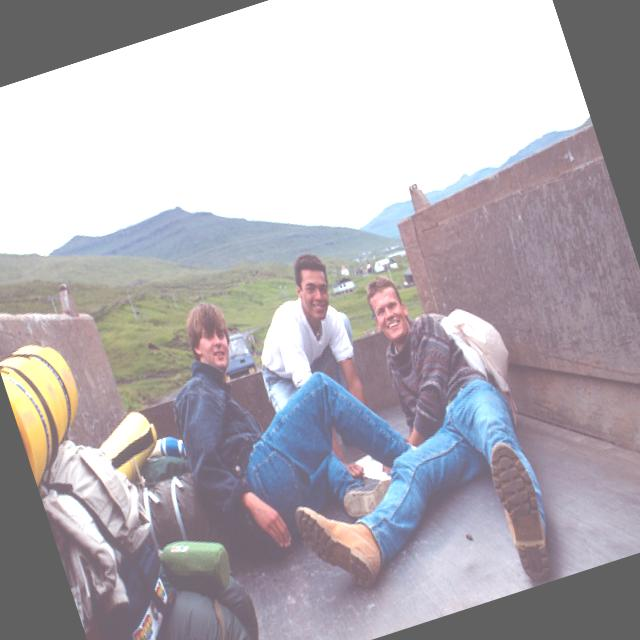Vehicle: (0, 94, 640, 640), (213, 329, 260, 384)
